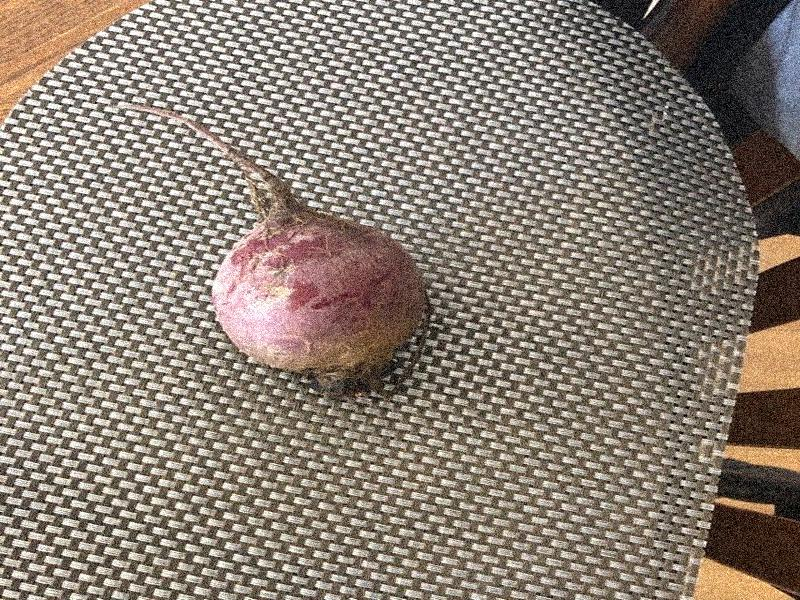Beet: (117, 101, 428, 400)
